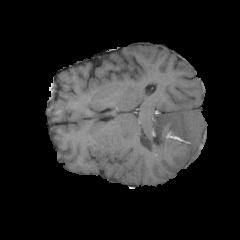glioma: (143, 108, 207, 164)
